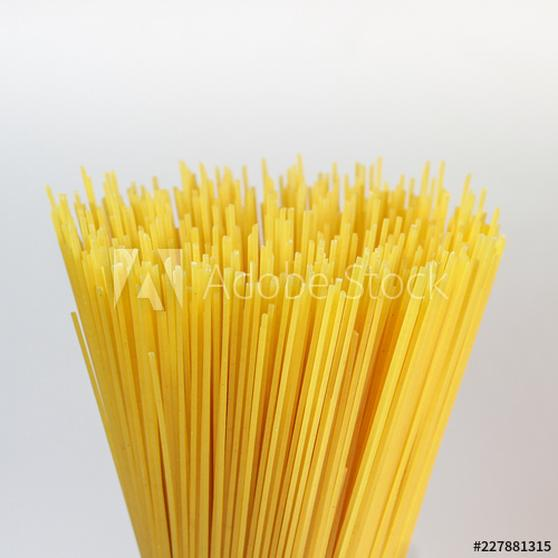spaghetti: (47, 151, 496, 558)
